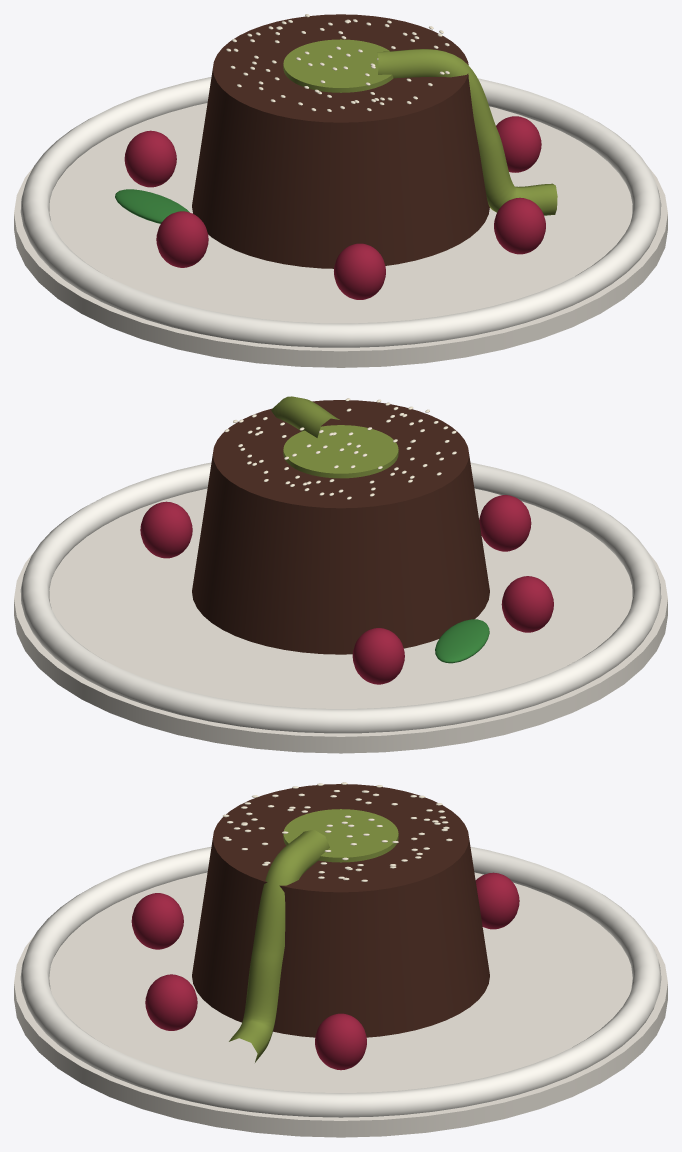
File: cake.glb
3 renders of one model, top to bottom at view 1: azimuth 30°, elevation 25°; view 2: azimuth 150°, elevation 25°; view 3: azimuth 270°, elevation 25°, orthographic.
Parts seen in each view (by area): view 1: Stylized demo cake; view 2: Stylized demo cake; view 3: Stylized demo cake.
Boxes of the visible parts, <box> form: Stylized demo cake: <box>14,14,667,367</box>; Stylized demo cake: <box>14,396,667,753</box>; Stylized demo cake: <box>14,782,667,1137</box>.
Size of the model in its own units: 2.5 by 0.7703 by 2.5.
